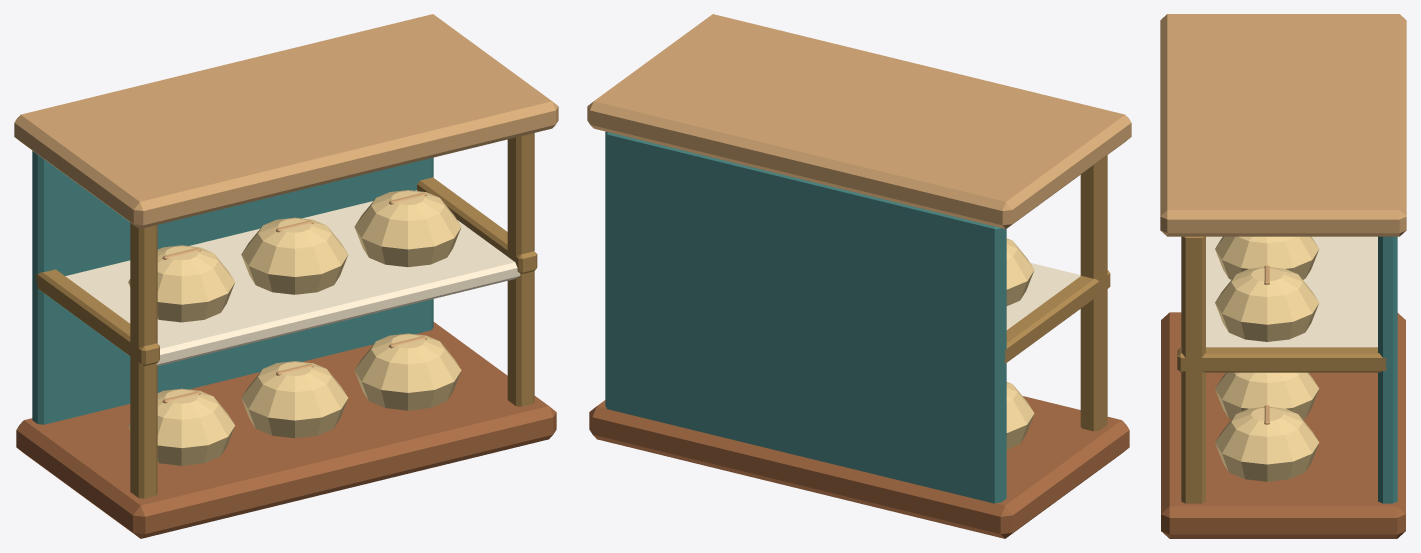
The model's file is 03_Pastry_Display.glb.
3 renders of one model, left to right at view 1: azimuth 30°, elevation 25°; view 2: azimuth 150°, elevation 25°; view 3: azimuth 270°, elevation 25°, orthographic. The views are drawn at different scales.
Parts seen in each view (by area): view 1: 03_Pastry_Display__Body; view 2: 03_Pastry_Display__Body; view 3: 03_Pastry_Display__Body.
Part boxes in pixels (x1,y1,x2,y2): 03_Pastry_Display__Body: [14, 14, 558, 538]; 03_Pastry_Display__Body: [587, 14, 1131, 538]; 03_Pastry_Display__Body: [1160, 14, 1406, 538].
Bounding box in the file's own units: 2.93 × 2.23 × 1.51.
Materials: 1 (1 with a texture image).
